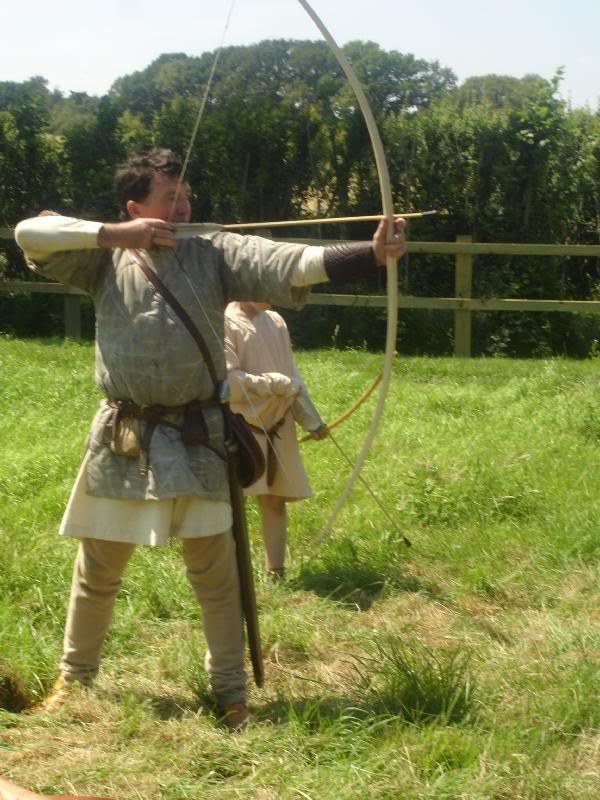person: (15, 151, 409, 731)
